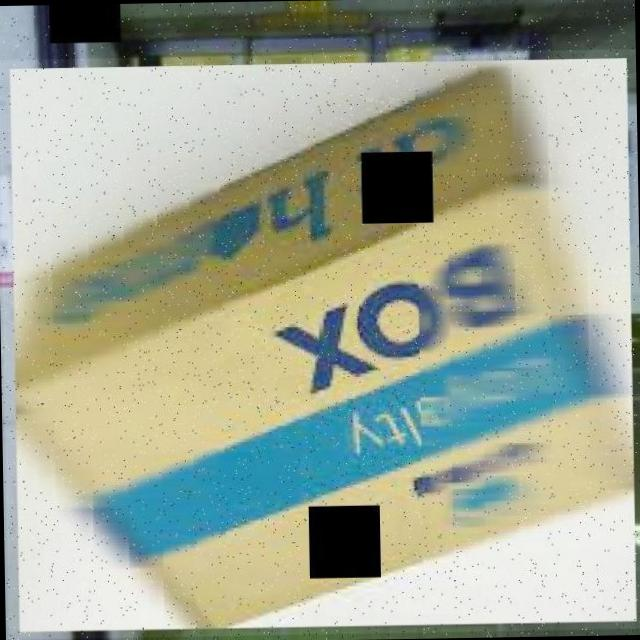box: (0, 49, 640, 639)
